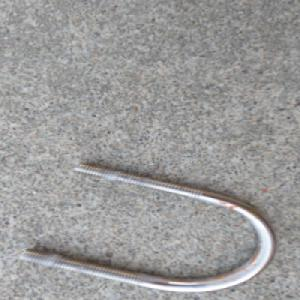ClampPart: (15, 161, 279, 294)
